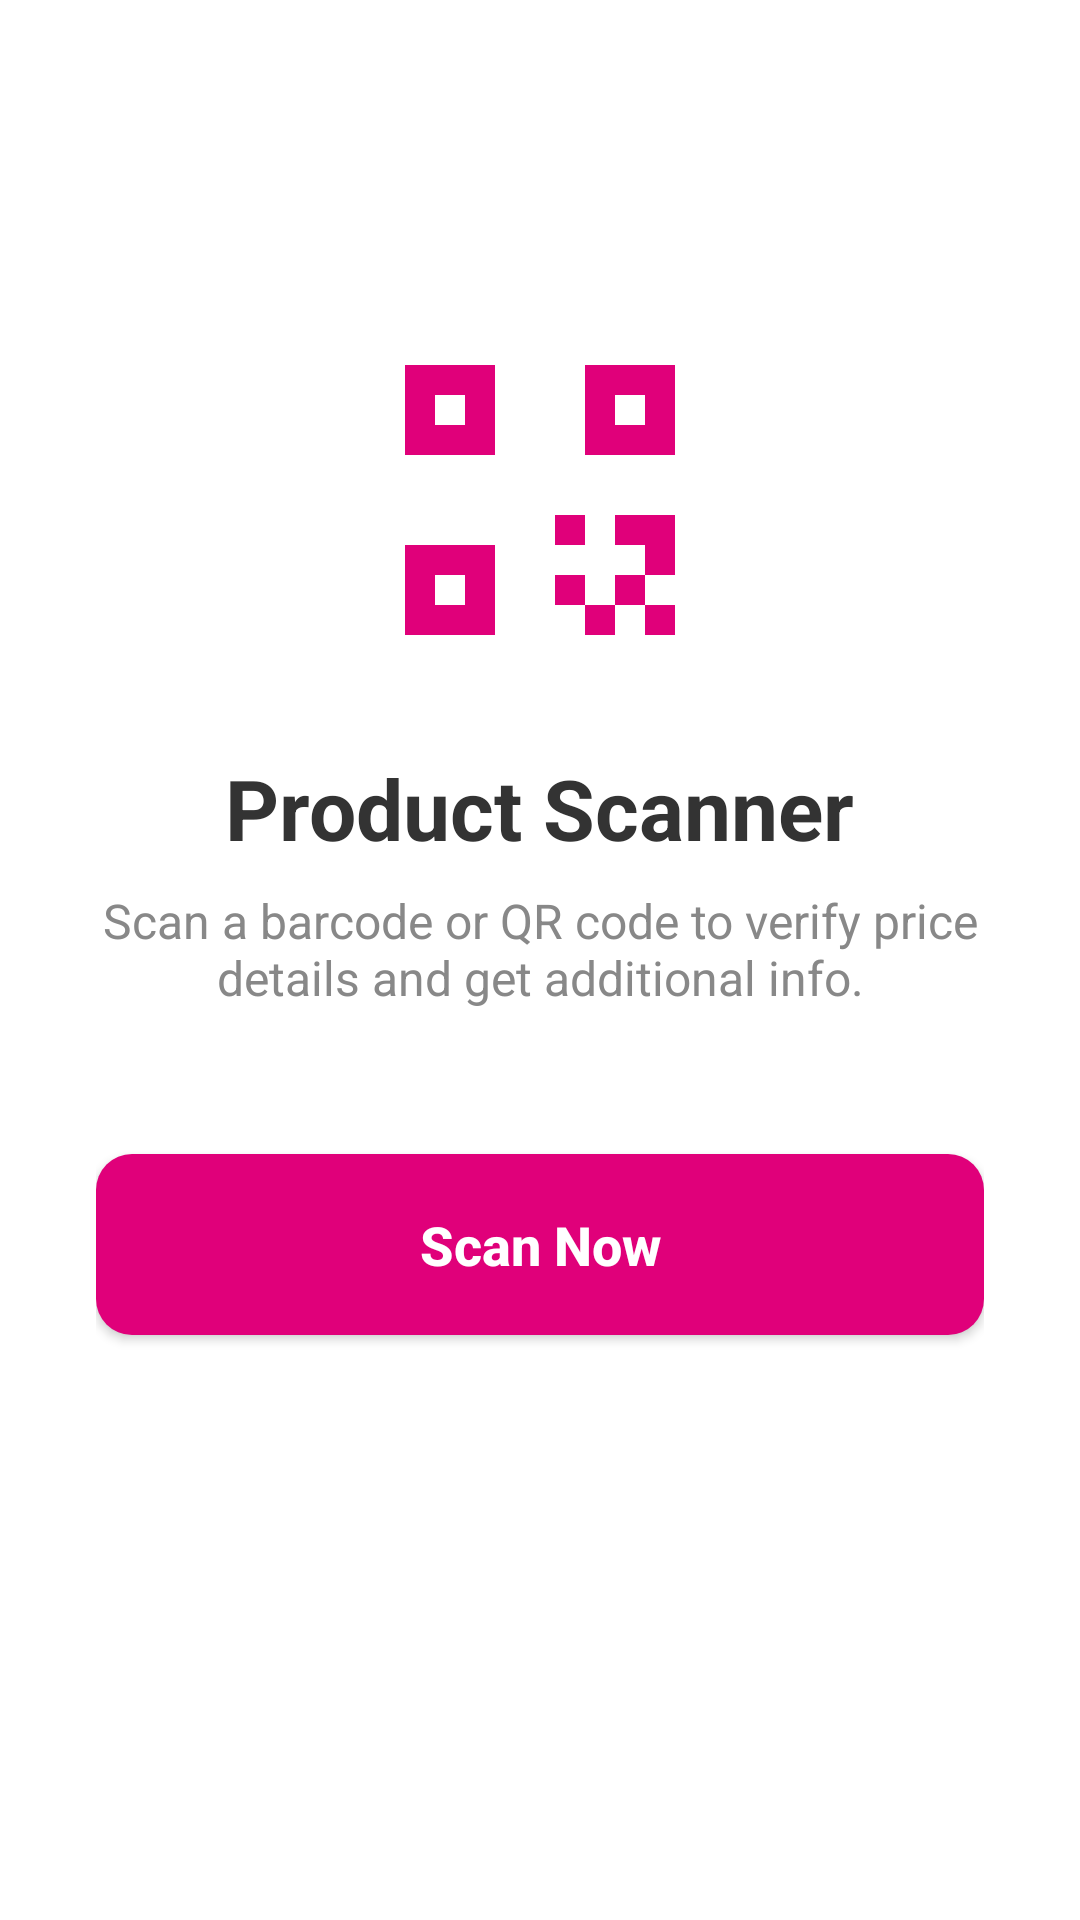

Icon click points for this 1080px×1920px phone screenshot, format (x,y):
QR Icon: (540,500)
